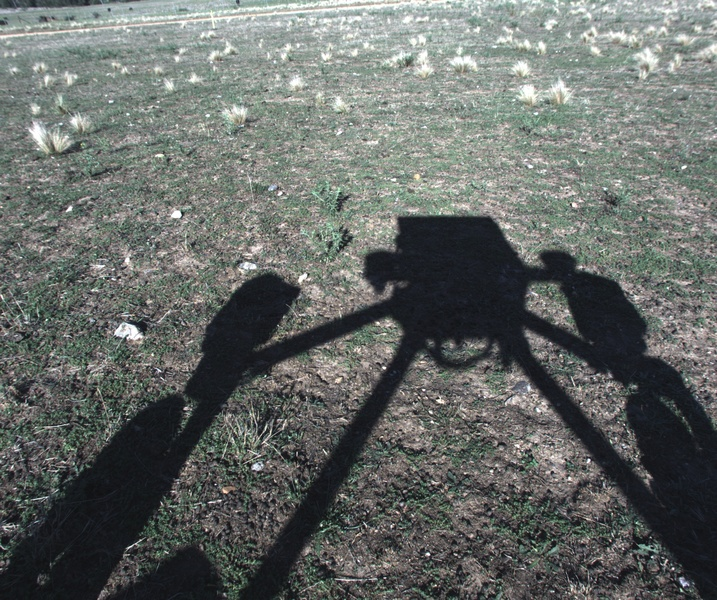st: (29, 120, 80, 154), (635, 50, 660, 83), (217, 101, 249, 125), (546, 79, 575, 105), (68, 111, 92, 131), (517, 84, 536, 109), (513, 59, 531, 78)
